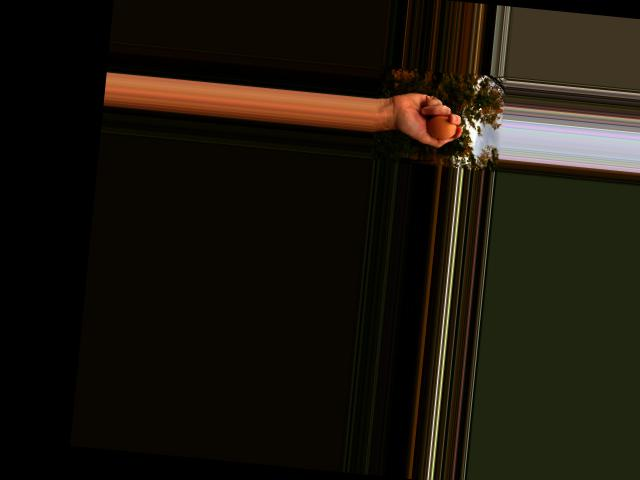egg: (426, 113, 457, 139)
